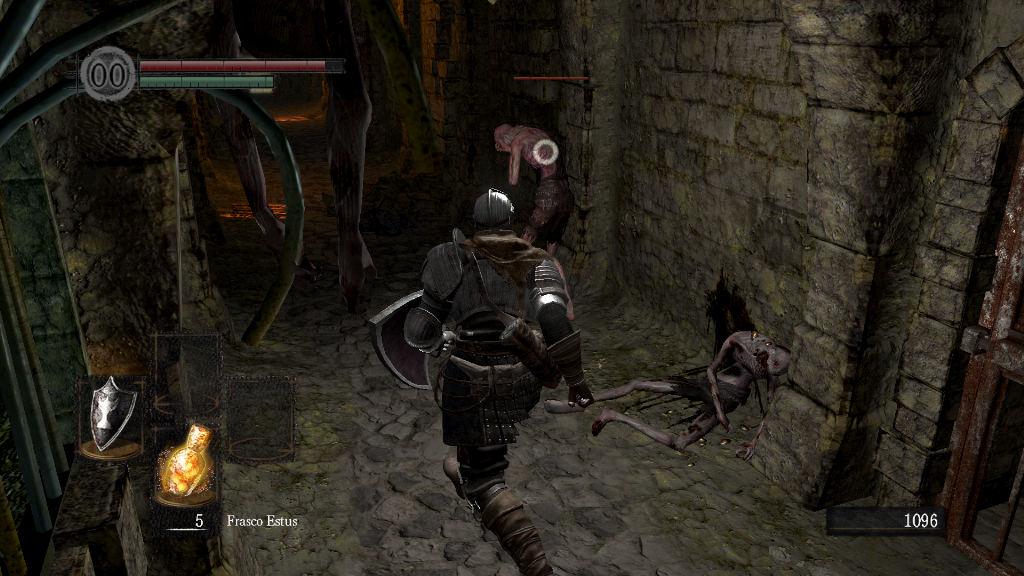health: (138, 58, 343, 71)
hollow: (488, 119, 579, 319)
humanity: (80, 45, 136, 102)
player: (370, 190, 594, 576)
souls: (825, 506, 945, 536)
stamina: (138, 74, 274, 88)
